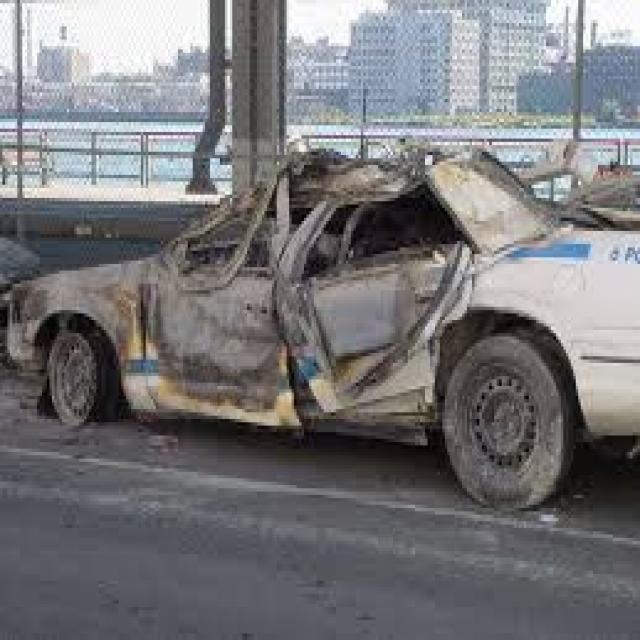severe: (10, 138, 529, 468)
